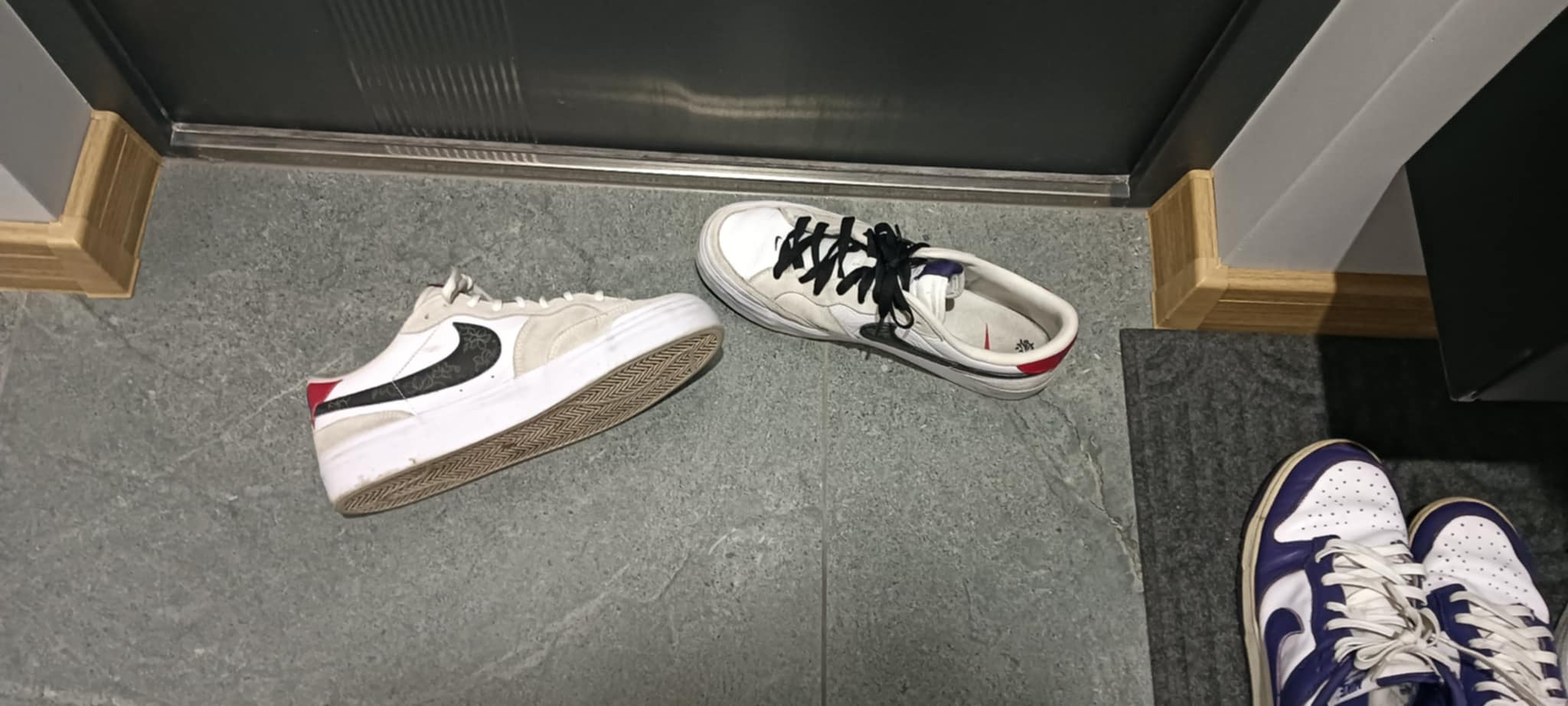nike_pogo_plus_japanese_roots: (299, 285, 724, 517), (687, 199, 1081, 401)
